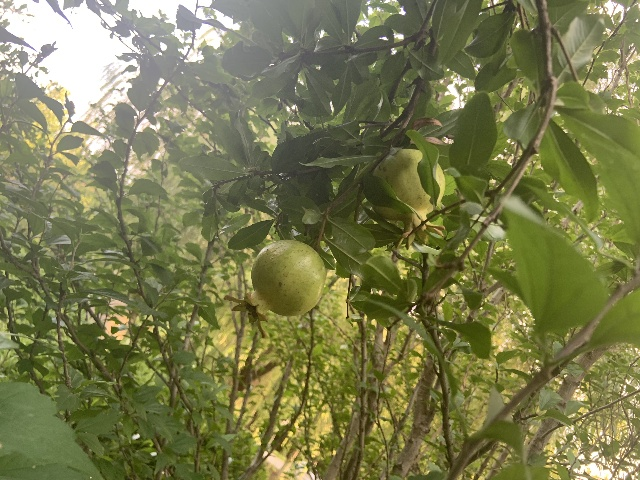mid-growth: (223, 239, 326, 338), (372, 148, 445, 250)
